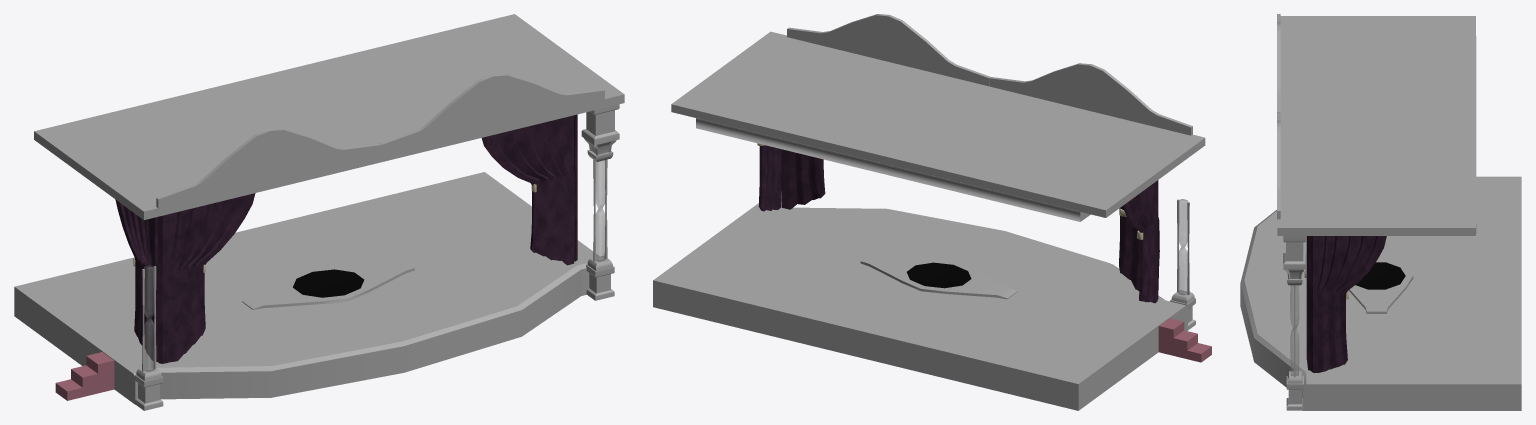
File: theater_puzzle_stage 1.fbx
The picture shows the model from 3 angles, left to right: view 1: azimuth 30°, elevation 25°; view 2: azimuth 150°, elevation 25°; view 3: azimuth 270°, elevation 25°; orthographic projection. The views are drawn at different scales.
Visible parts, largest first — view 1: group165_pCube45; view 2: group165_pCube45; view 3: group165_pCube45.
Boxes of the visible parts, left/top/right/bottom form: group165_pCube45: left=14, top=14, right=624, bottom=410; group165_pCube45: left=653, top=14, right=1211, bottom=410; group165_pCube45: left=1240, top=14, right=1521, bottom=410.
Bounding box in the file's own units: 4809 × 2242 × 2477.
